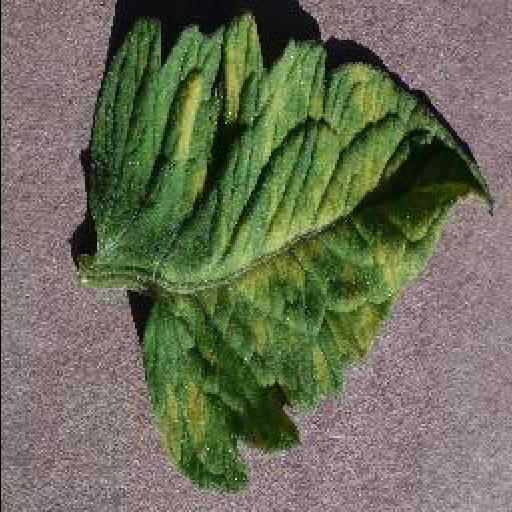disease_tomato: (82, 10, 496, 494)
